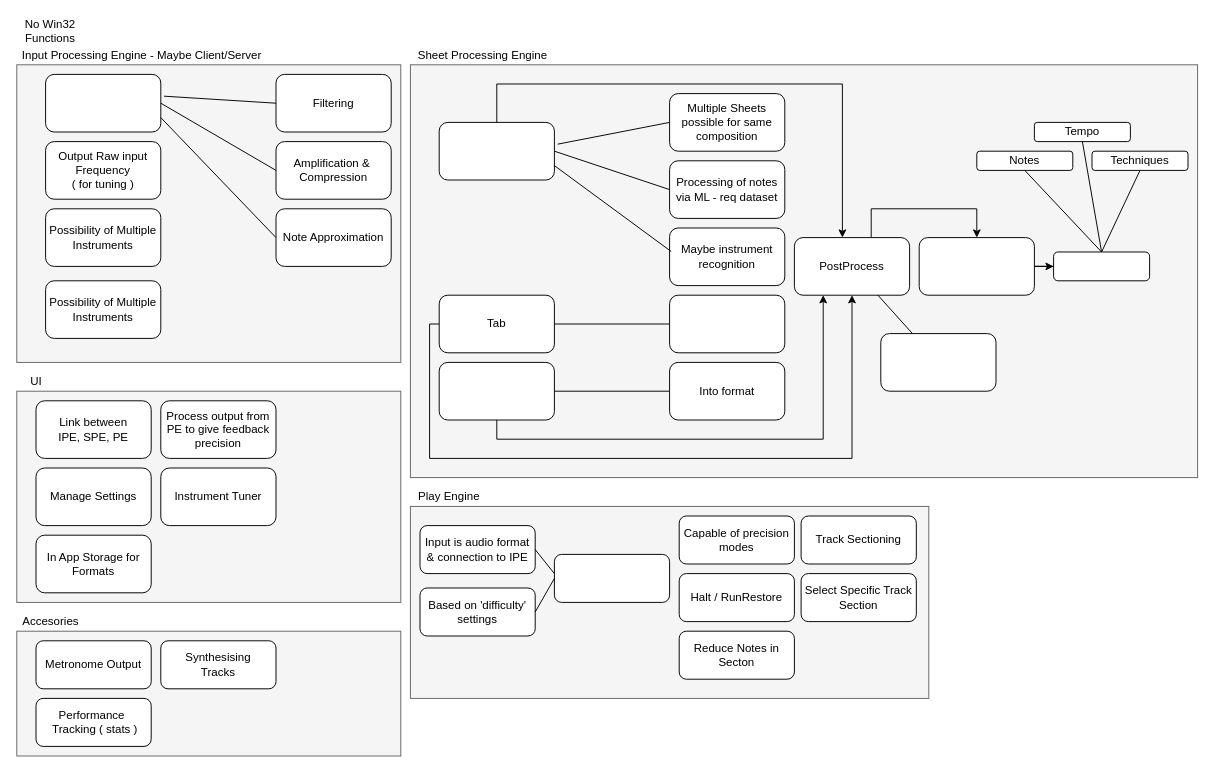
Some shapes in this 1214 by 773 pixel diagram are drawn without their labels. The centre of each missing label's shape, as x and y in pixels:
"Common Format as Output" belongs at [976,266].
"Different Tracks" belongs at [727,323].
"Input from any source" belongs at [103,102].
"Limited Approximation" belongs at [611,577].
"Output Range, Tempo Adjustment ( + sound downscale )" belongs at [938,362].
"Recording" belongs at [496,390].
"Sheet" belongs at [496,150].
"Time unit by Tempo" belongs at [1101,266].
